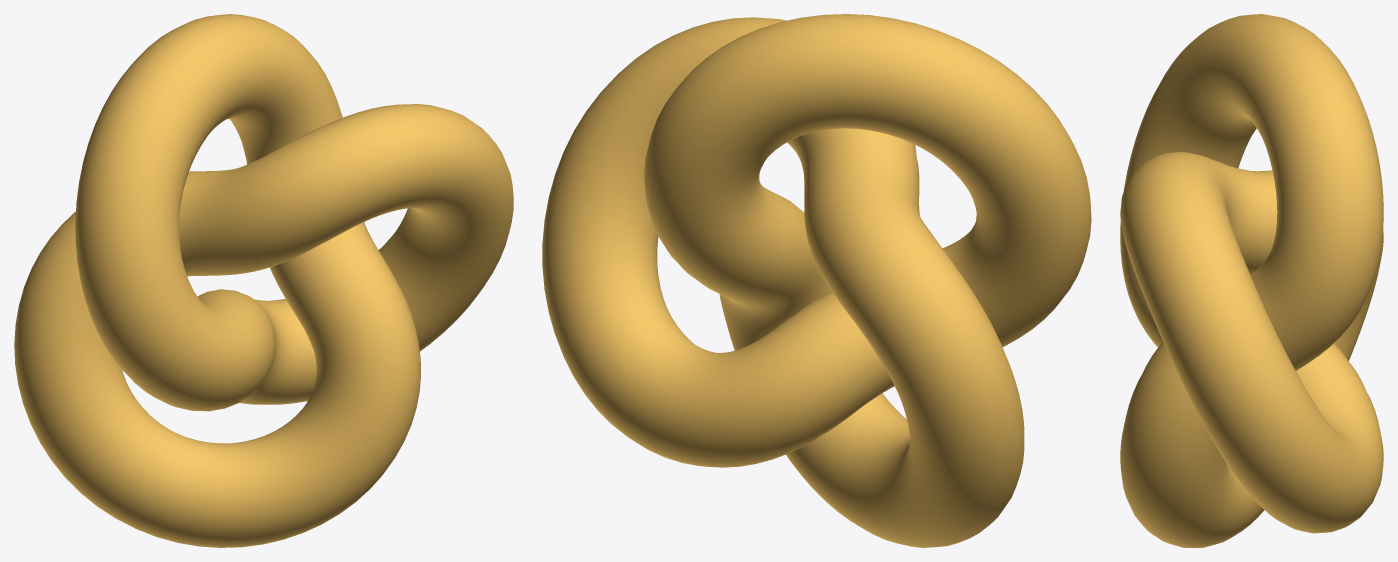
File: torus-knot-high.glb
The picture shows the model from 3 angles, left to right: view 1: azimuth 30°, elevation 25°; view 2: azimuth 150°, elevation 25°; view 3: azimuth 270°, elevation 25°; orthographic projection. The views are drawn at different scales.
Bounding box in the file's own units: 1.78 × 1.86 × 0.8898.
